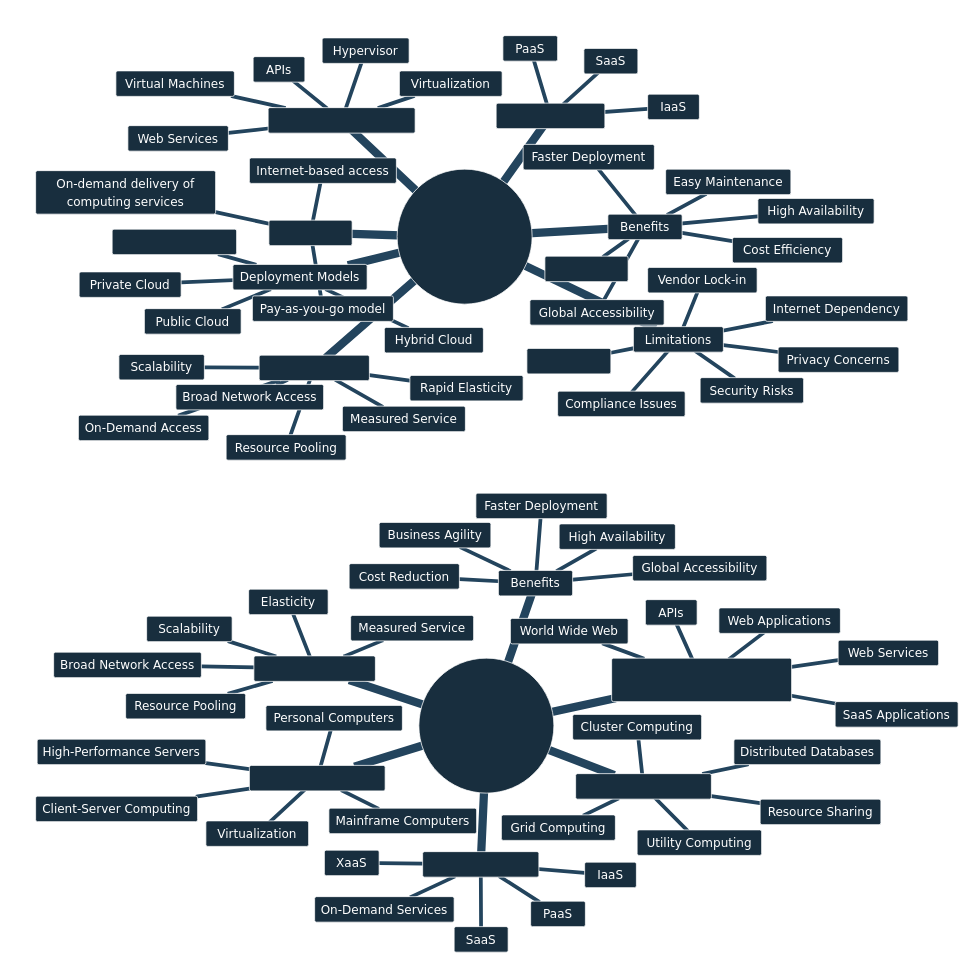
The diagram is 971 pixels wide and 965 high, and some of its shapes have lost their labels. The shapes that lost their labels are listed below. From the top down, each one's box as (x1, y1, x2, y2) in pixels, then its label:
(267, 107, 415, 133): Enabling Technologies
(495, 102, 605, 129): Service Models
(111, 228, 237, 255): Community Cloud
(268, 219, 352, 246): Definition
(396, 168, 532, 304): Cloud Computing Fundamentals
(544, 255, 628, 282): Flexibility
(258, 354, 369, 381): Characteristics
(526, 348, 611, 374): Downtime
(253, 655, 375, 681): Cloud Computing
(611, 657, 792, 702): Internet & Software Evolution
(418, 657, 554, 793): Evolution of Cloud Computing
(249, 765, 385, 791): Hardware Evolution
(575, 773, 711, 799): Distributed Systems
(422, 851, 539, 877): Service Delivery
